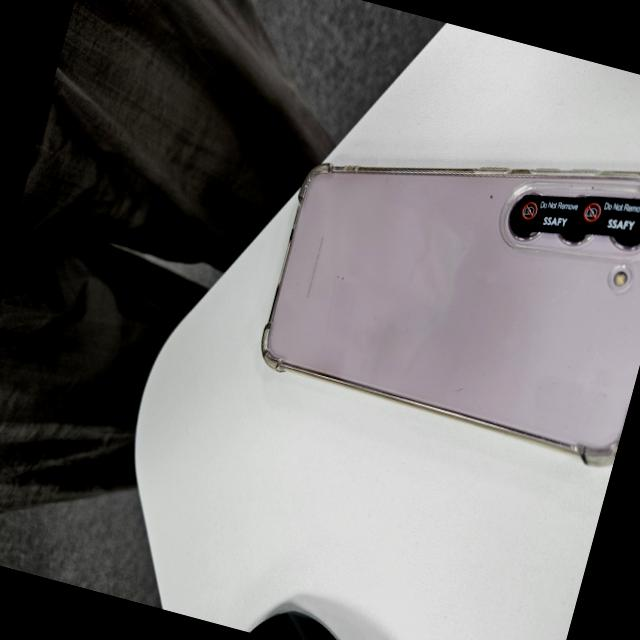phone: (251, 77, 640, 471)
sticker: (512, 180, 586, 248), (575, 182, 640, 252)
